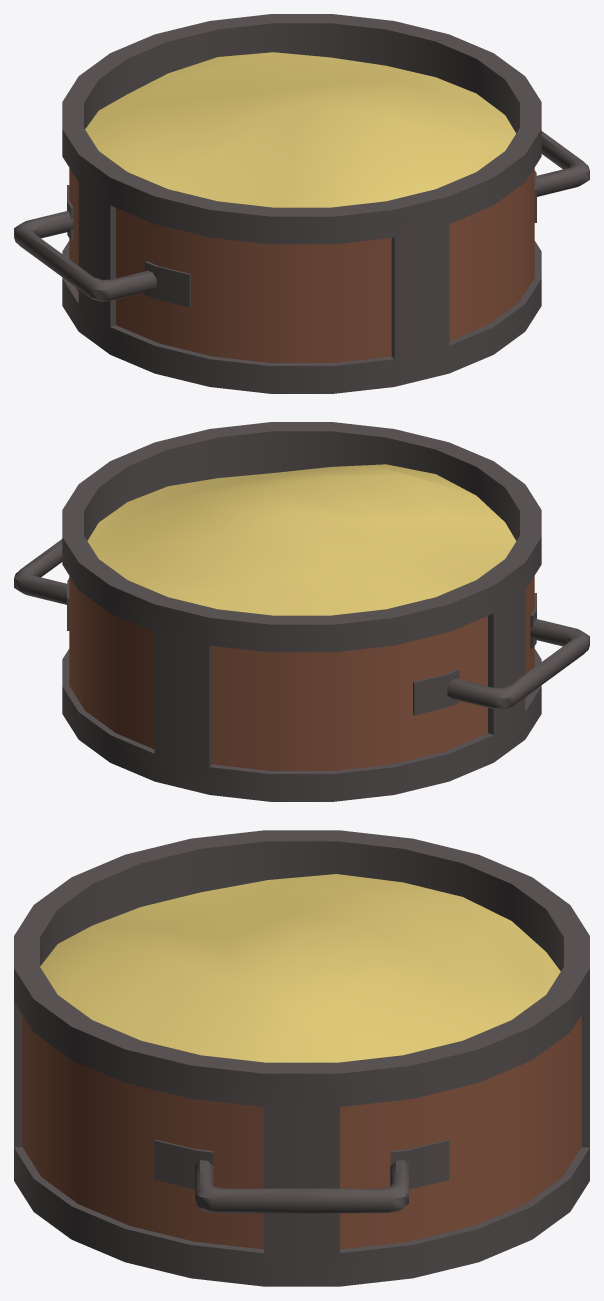
File: scheffel.fbx
3 views of the same model, one above another, from view 1: azimuth 30°, elevation 25°; view 2: azimuth 150°, elevation 25°; view 3: azimuth 270°, elevation 25° (orthographic). The views are drawn at different scales.
Visible parts, largest first — view 1: scheffel, scheffel_weizen; view 2: scheffel, scheffel_weizen; view 3: scheffel, scheffel_weizen.
Boxes of the visible parts, <box> form: scheffel: <box>14,14,589,393</box>; scheffel_weizen: <box>85,52,515,207</box>; scheffel: <box>14,422,589,801</box>; scheffel_weizen: <box>87,464,516,615</box>; scheffel: <box>14,830,589,1286</box>; scheffel_weizen: <box>40,874,560,1062</box>.
Size of the model in its own units: 245 by 88.42 by 204.
